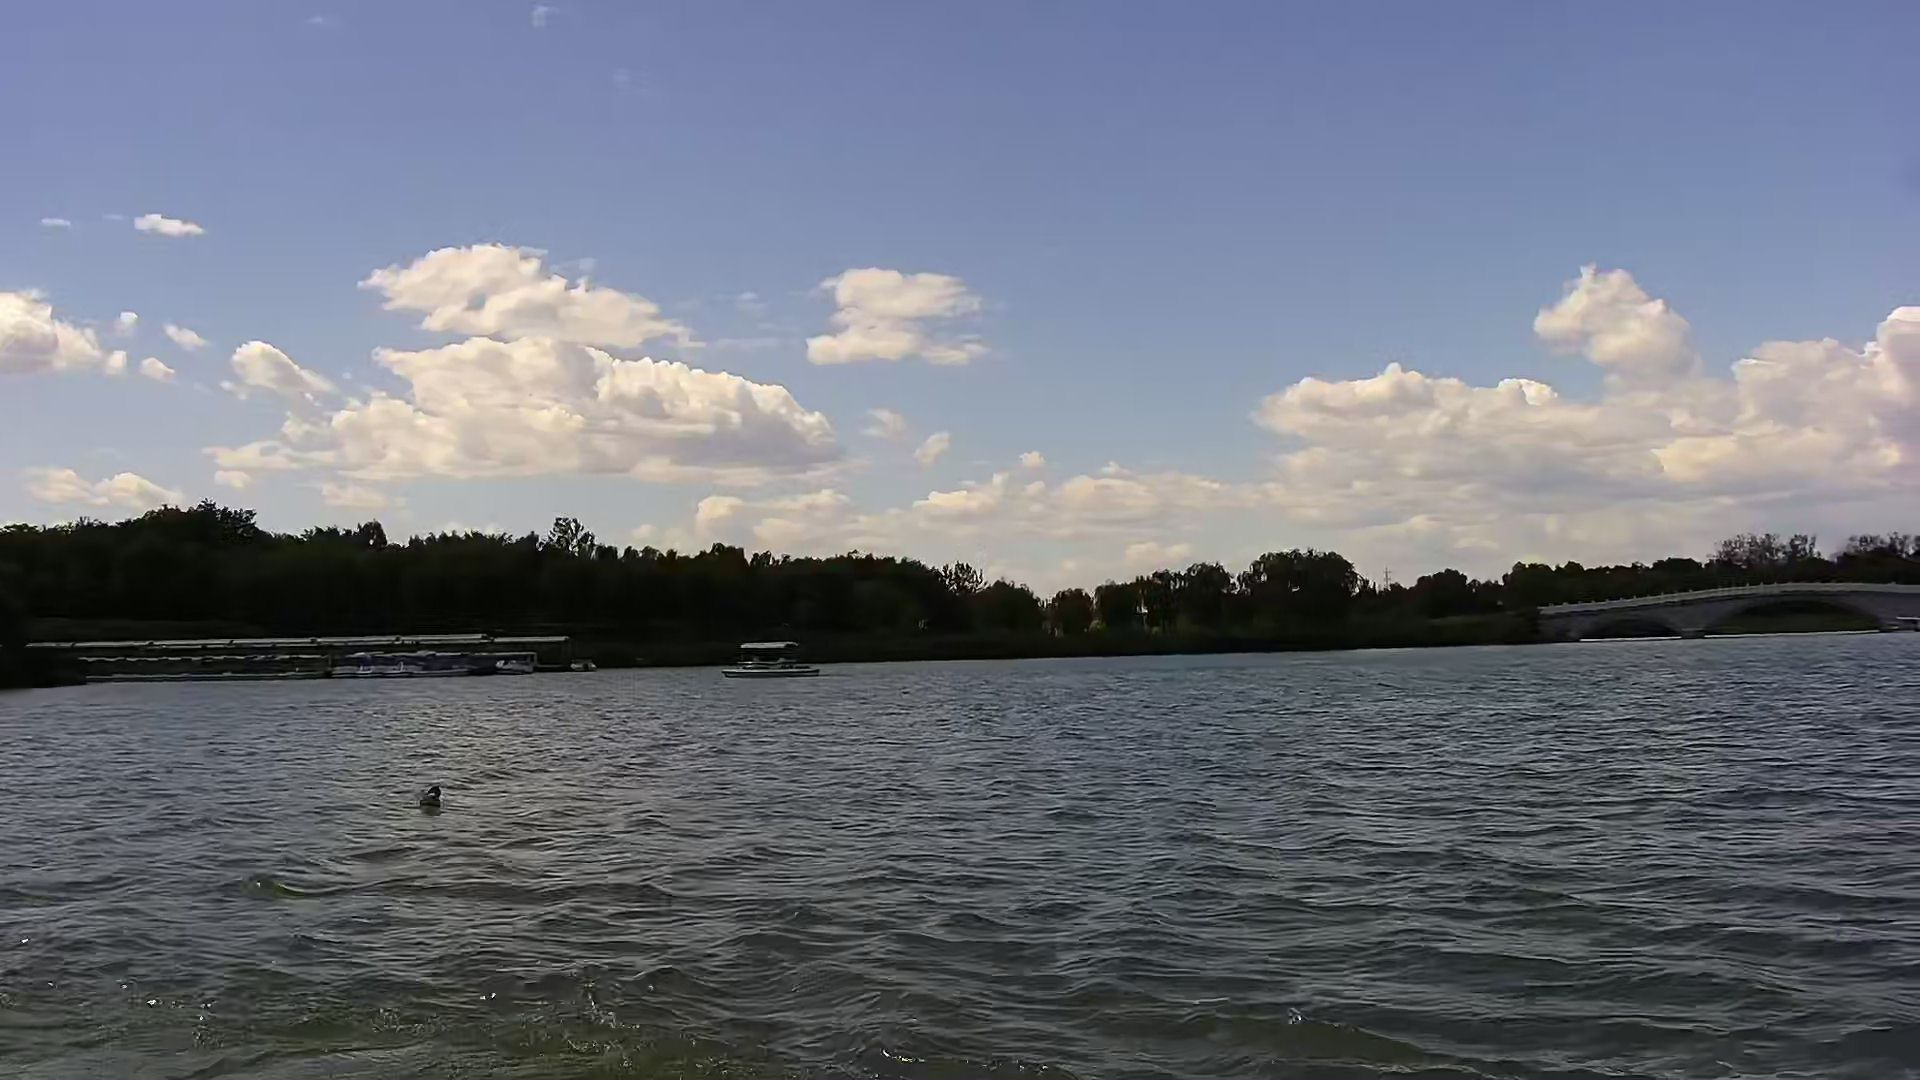animal: (415, 783, 450, 816)
boat: (723, 644, 829, 683)
bridge: (1534, 582, 1920, 640)
harbor: (58, 630, 596, 679)
